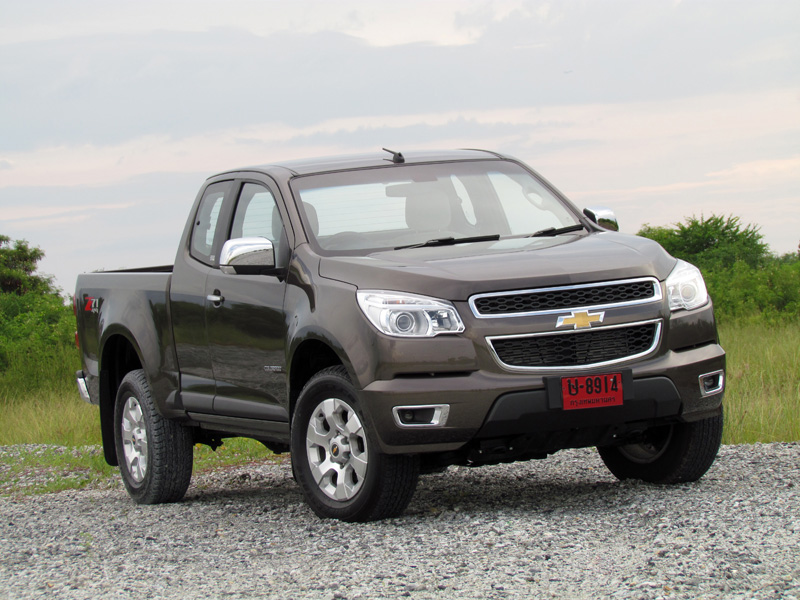pickup: (66, 145, 727, 520)
